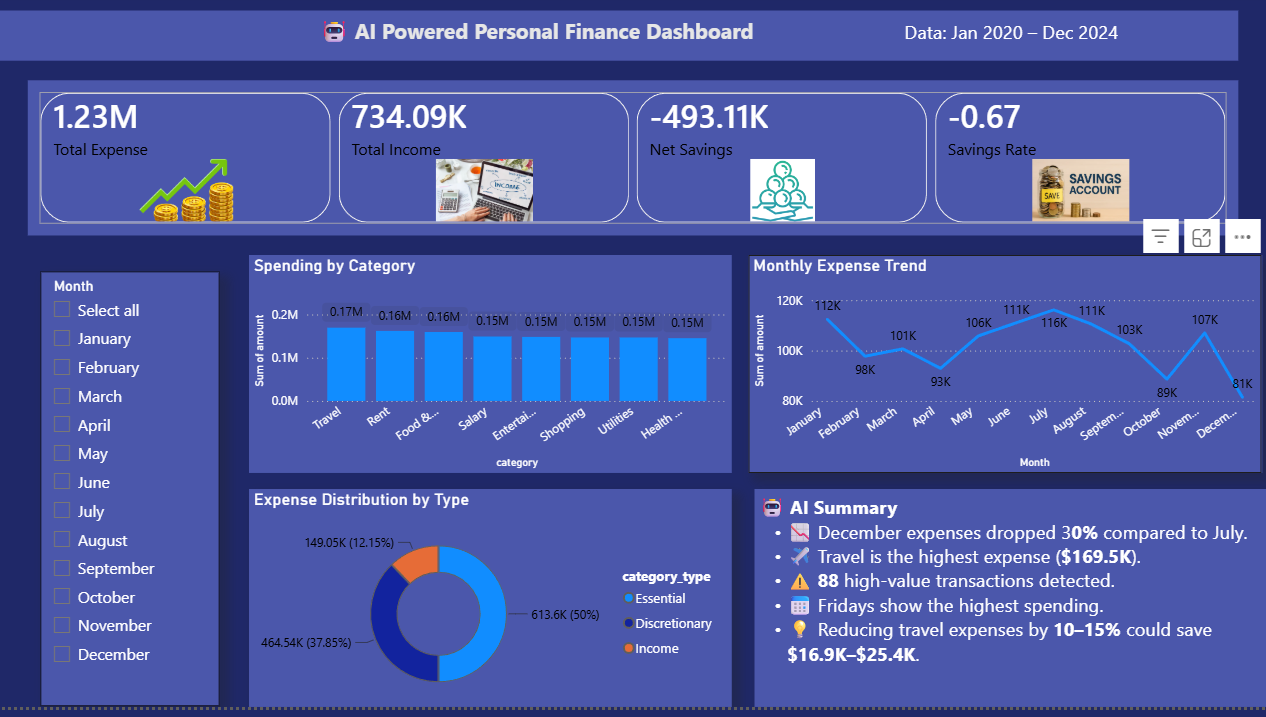

This screenshot's page, from the dashboard's own definition file:
{"tool":"powerbi","page":{"name":"Page 1","canvas":[1280,720],"ordinal":0},"visuals":[{"type":"cardVisual","fields":{"Data":["finance_project1 transactions.Total Expense","finance_project1 transactions.Total Income","finance_project1 transactions.Net Savings","finance_project1 transactions.Savings Rate"]},"box":[23.3,81.5,1234.3,167.4],"z":0},{"type":"lineChart","title":"Monthly Expense Trend","fields":{"Category":["finance_project1 transactions.txn_date.Variation.Date Hierarchy.Month"],"Y":["Sum(finance_project1 transactions.amount)"]},"box":[755.4,263.4,518.5,220.3],"z":1000},{"type":"clusteredColumnChart","title":"Spending by Category","fields":{"Category":["finance_project1 transactions.category"],"Y":["Sum(finance_project1 transactions.amount)"]},"box":[251.8,263.4,487,220.3],"z":2000},{"type":"donutChart","title":"Expense Distribution by Type","fields":{"Category":["finance_project1 categories.category_type"],"Y":["Sum(finance_project1 transactions.amount)"]},"box":[251.8,500.3,487,220.3],"z":3000},{"type":"textbox","box":[762,500.3,518.5,220.3],"z":4000},{"type":"slicer","fields":{"Values":["finance_project1 transactions.txn_date.Variation.Date Hierarchy.Month"]},"box":[40.9,280.1,180.6,439],"z":5000},{"type":"textbox","box":[0,16,1250.3,50.9],"z":7000}]}

Visuals, with their boxes in screenshot pixels (x1, y1, x2, y2), scaled from the page's 1280x720 canvas onto the 1266x717 screenshot:
cardVisual - finance_project1 transactions.Total Expense x finance_project1 transactions.Total Income: [23,81,1244,248]
"Monthly Expense Trend" lineChart: [747,262,1260,482]
"Spending by Category" clusteredColumnChart: [249,262,731,482]
"Expense Distribution by Type" donutChart: [249,498,731,716]
textbox: [754,498,1265,716]
slicer - finance_project1 transactions.txn_date.Variation.Date Hierarchy.Month: [40,279,219,716]
textbox: [0,16,1237,67]
